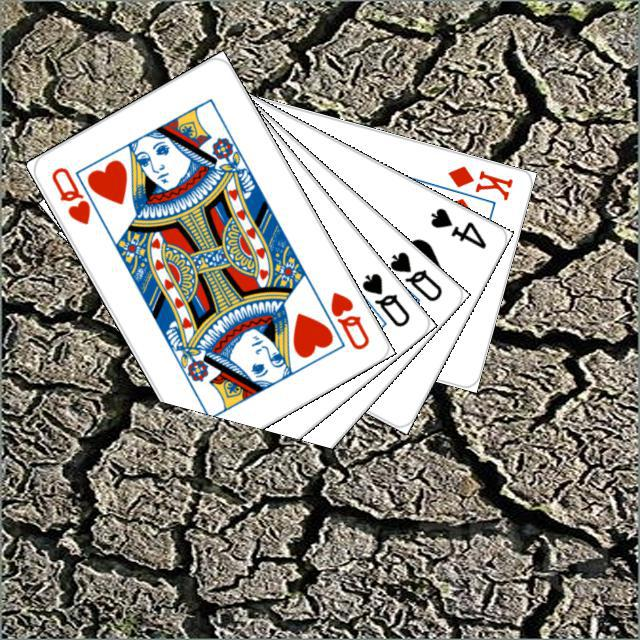4s: (425, 202, 488, 251)
Kd: (443, 160, 515, 203)
Qh: (46, 162, 107, 227), (325, 287, 371, 352)
Qs: (384, 246, 444, 304), (356, 267, 412, 329)
